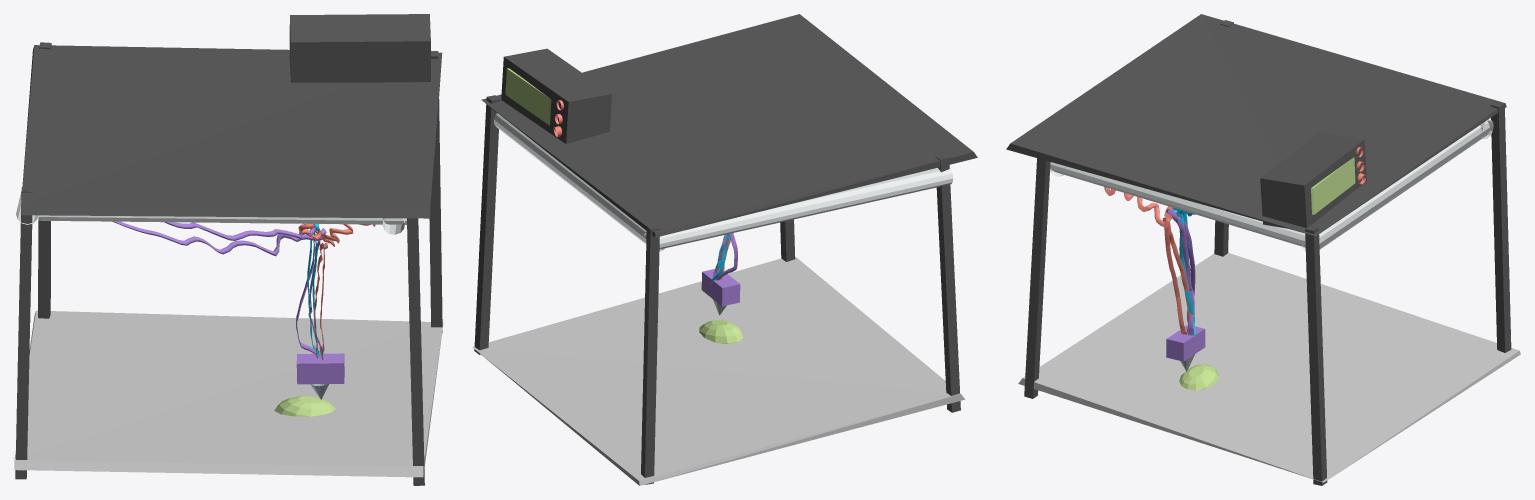
File: impresora_3d.glb
3 renders of one model, left to right at view 1: azimuth 30°, elevation 25°; view 2: azimuth 150°, elevation 25°; view 3: azimuth 270°, elevation 25°, orthographic. The views are drawn at different scales.
Visible parts, largest first — view 1: Object_6, Object_5, Object_4, Object_2, Object_8, Object_9, Object_7; view 2: Object_6, Object_5, Object_2, Object_9, Object_4; view 3: Object_6, Object_5, Object_2, Object_9, Object_4, Object_8.
Boxes of the visible parts, x1,y1,x2,y2 form: Object_6: (15, 14, 442, 485); Object_5: (14, 310, 443, 477); Object_4: (112, 221, 344, 384); Object_2: (16, 191, 406, 234); Object_8: (298, 223, 375, 359); Object_9: (274, 396, 335, 416); Object_7: (306, 223, 320, 356); Object_6: (474, 14, 977, 484); Object_5: (472, 256, 964, 485); Object_2: (493, 113, 953, 251); Object_9: (505, 68, 743, 343); Object_4: (701, 233, 740, 306); Object_6: (1006, 14, 1511, 485); Object_5: (1018, 253, 1520, 482); Object_2: (1050, 119, 1493, 250); Object_9: (1179, 157, 1355, 390); Object_4: (1166, 207, 1205, 361); Object_8: (1104, 147, 1366, 334).
Bounding box in the file's own units: 1 × 0.6457 × 1.02.
